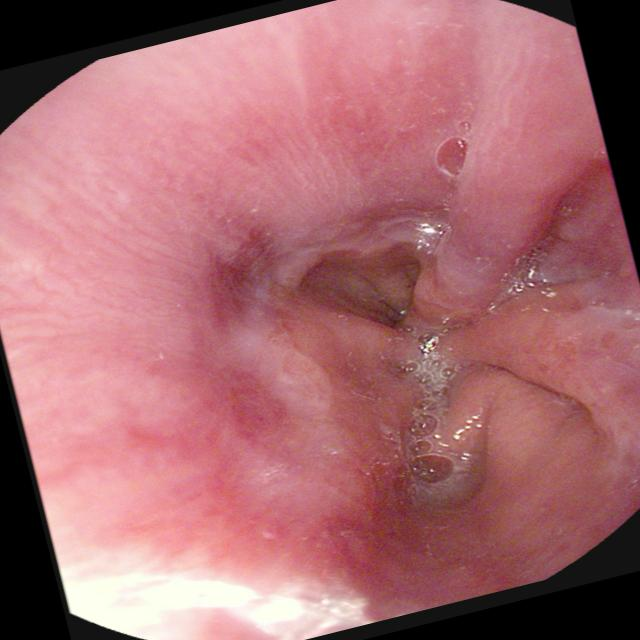Normal-Z-Line: (194, 205, 640, 636)
